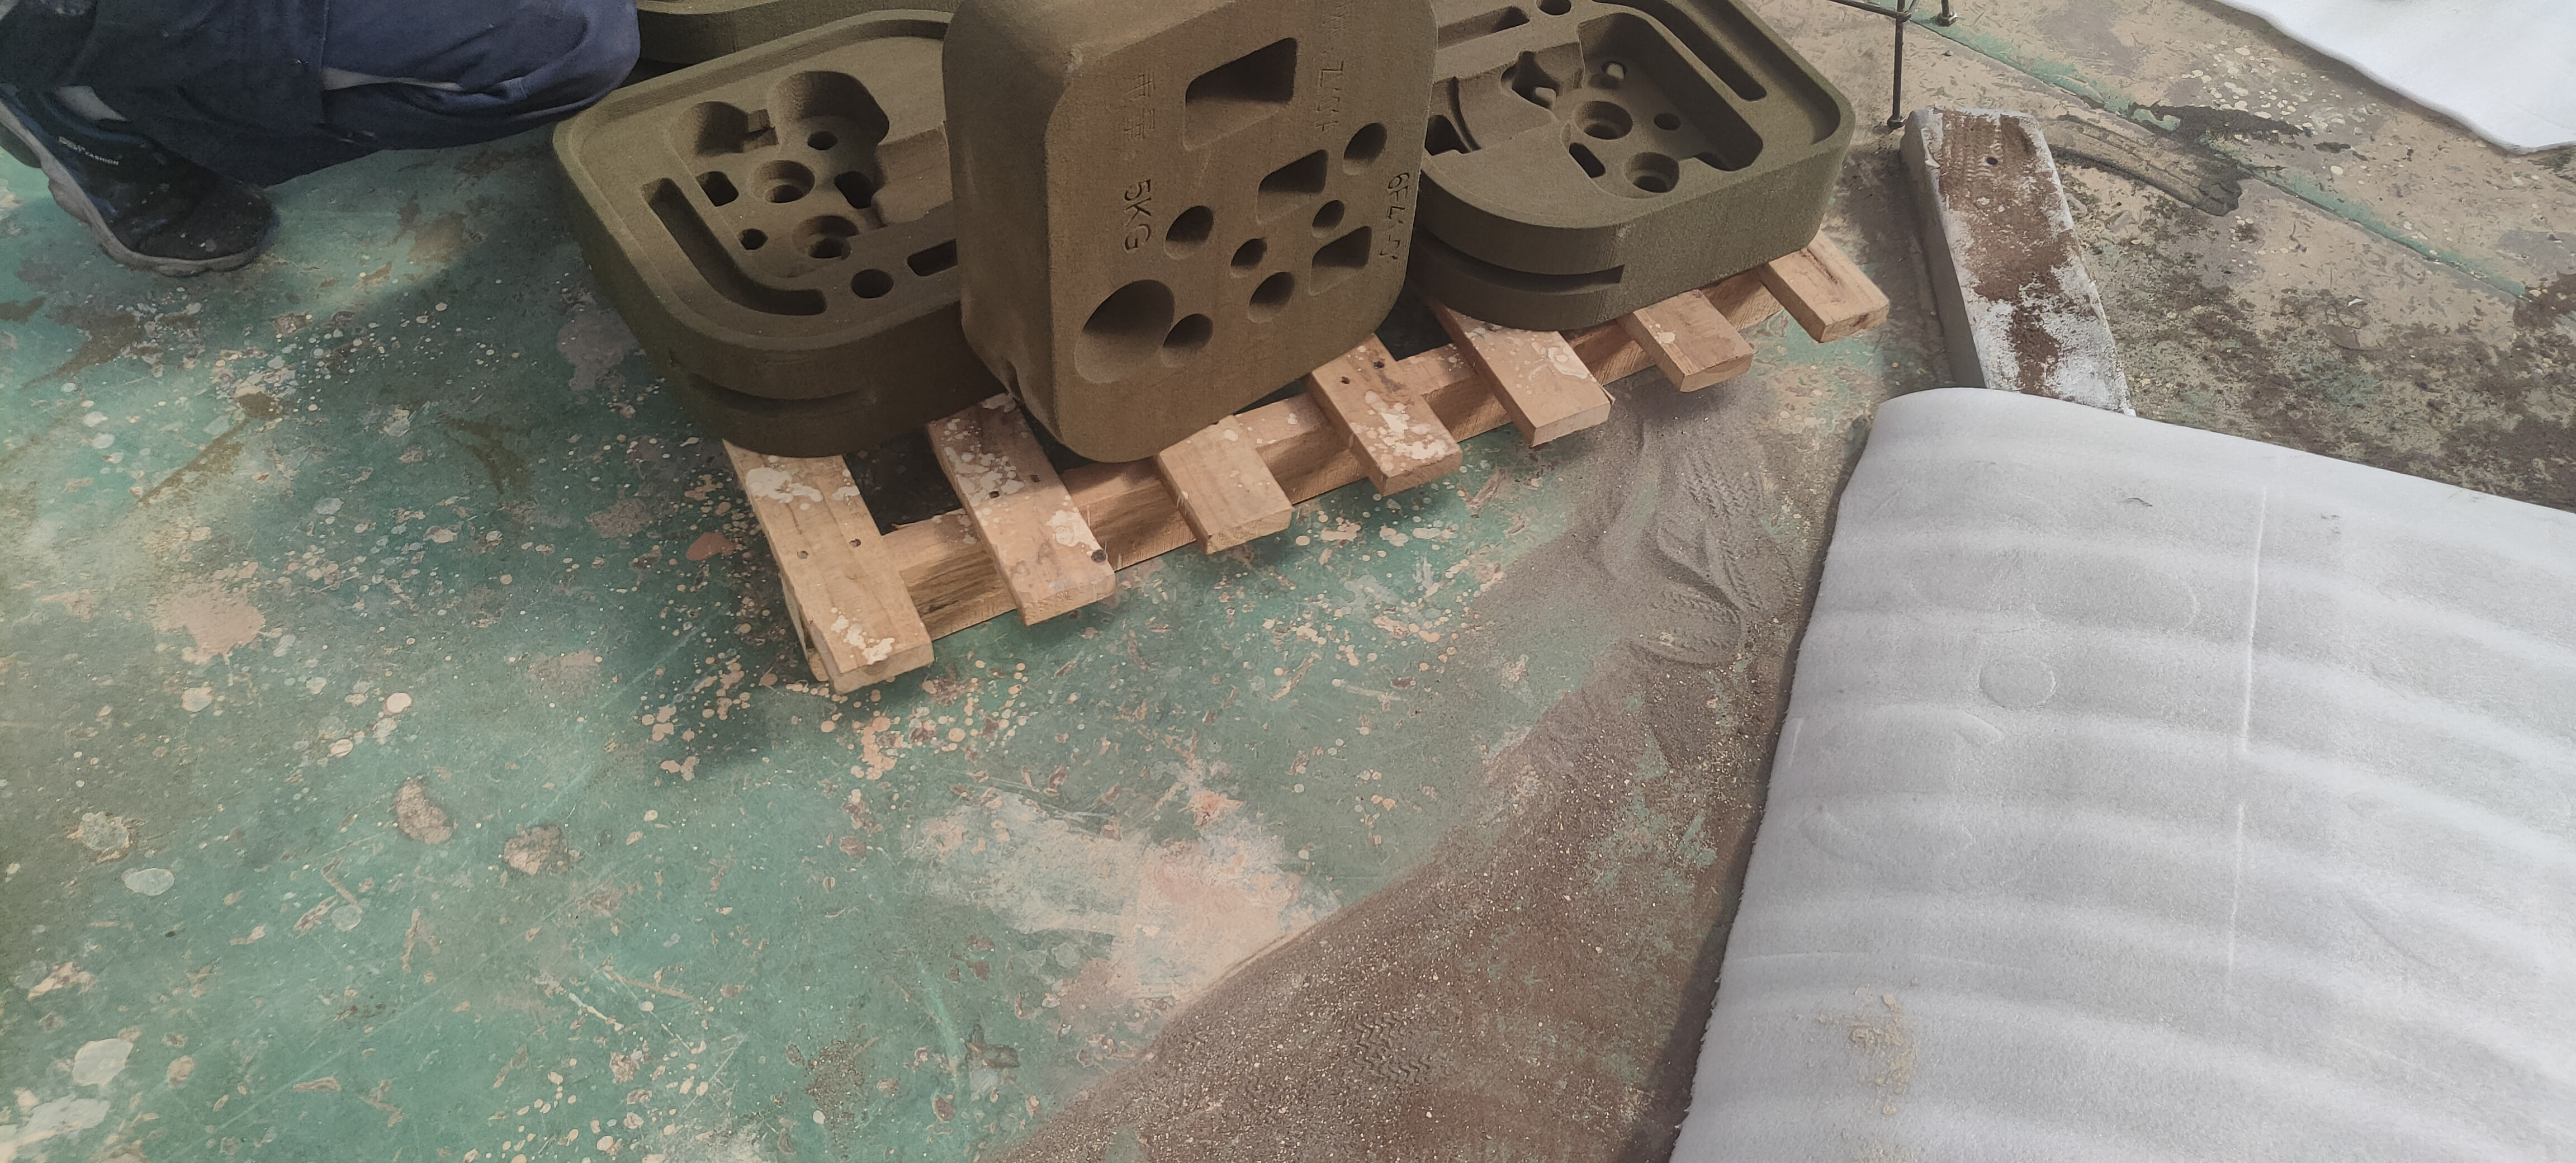pouring hole: (1073, 281, 1176, 386)
